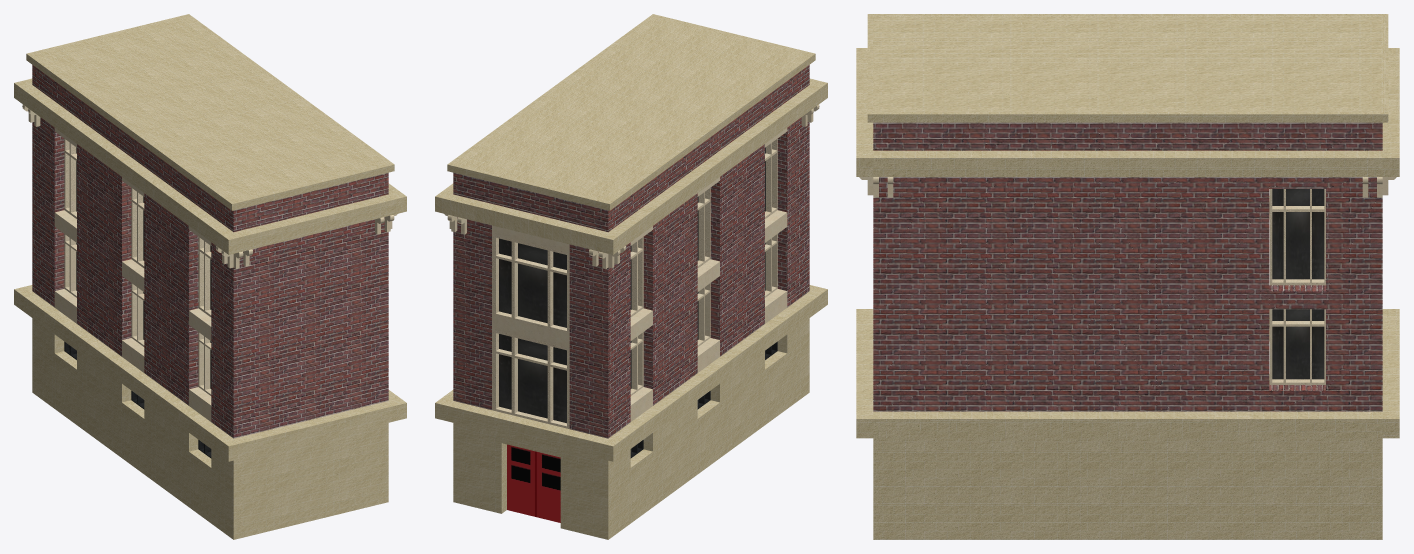
Rendered from fire-s2.glb.
3 views of the same model, side by side, from view 1: azimuth 30°, elevation 25°; view 2: azimuth 150°, elevation 25°; view 3: azimuth 270°, elevation 25° (orthographic). The views are drawn at different scales.
Parts seen in each view (by area): view 1: polySurface16_lam_concretebrick_0, polySurface16_lam_brick_0, polySurface16_lam_concretereg_0, polySurface16_lam_window_0; view 2: polySurface16_lam_concretebrick_0, polySurface16_lam_brick_0, polySurface16_lam_concretereg_0, polySurface16_lam_window_0, polySurface16_lam_door_0; view 3: polySurface16_lam_concretebrick_0, polySurface16_lam_brick_0, polySurface16_lam_window_0, polySurface16_lam_concretereg_0.
Boxes of the visible parts, x1,y1,x2,y2 form: polySurface16_lam_concretebrick_0: [14, 14, 406, 539]; polySurface16_lam_brick_0: [32, 65, 388, 438]; polySurface16_lam_concretereg_0: [22, 104, 397, 421]; polySurface16_lam_window_0: [76, 147, 211, 451]; polySurface16_lam_concretebrick_0: [435, 14, 827, 539]; polySurface16_lam_brick_0: [453, 65, 809, 438]; polySurface16_lam_concretereg_0: [444, 104, 819, 428]; polySurface16_lam_window_0: [499, 147, 765, 451]; polySurface16_lam_door_0: [507, 444, 560, 522]; polySurface16_lam_concretebrick_0: [856, 14, 1399, 539]; polySurface16_lam_brick_0: [873, 122, 1382, 411]; polySurface16_lam_window_0: [1272, 189, 1324, 379]; polySurface16_lam_concretereg_0: [859, 177, 1396, 384].
Size of the model in its own units: 0.092 by 0.1669 by 0.192.
Materials: 7 (7 with a texture image).
